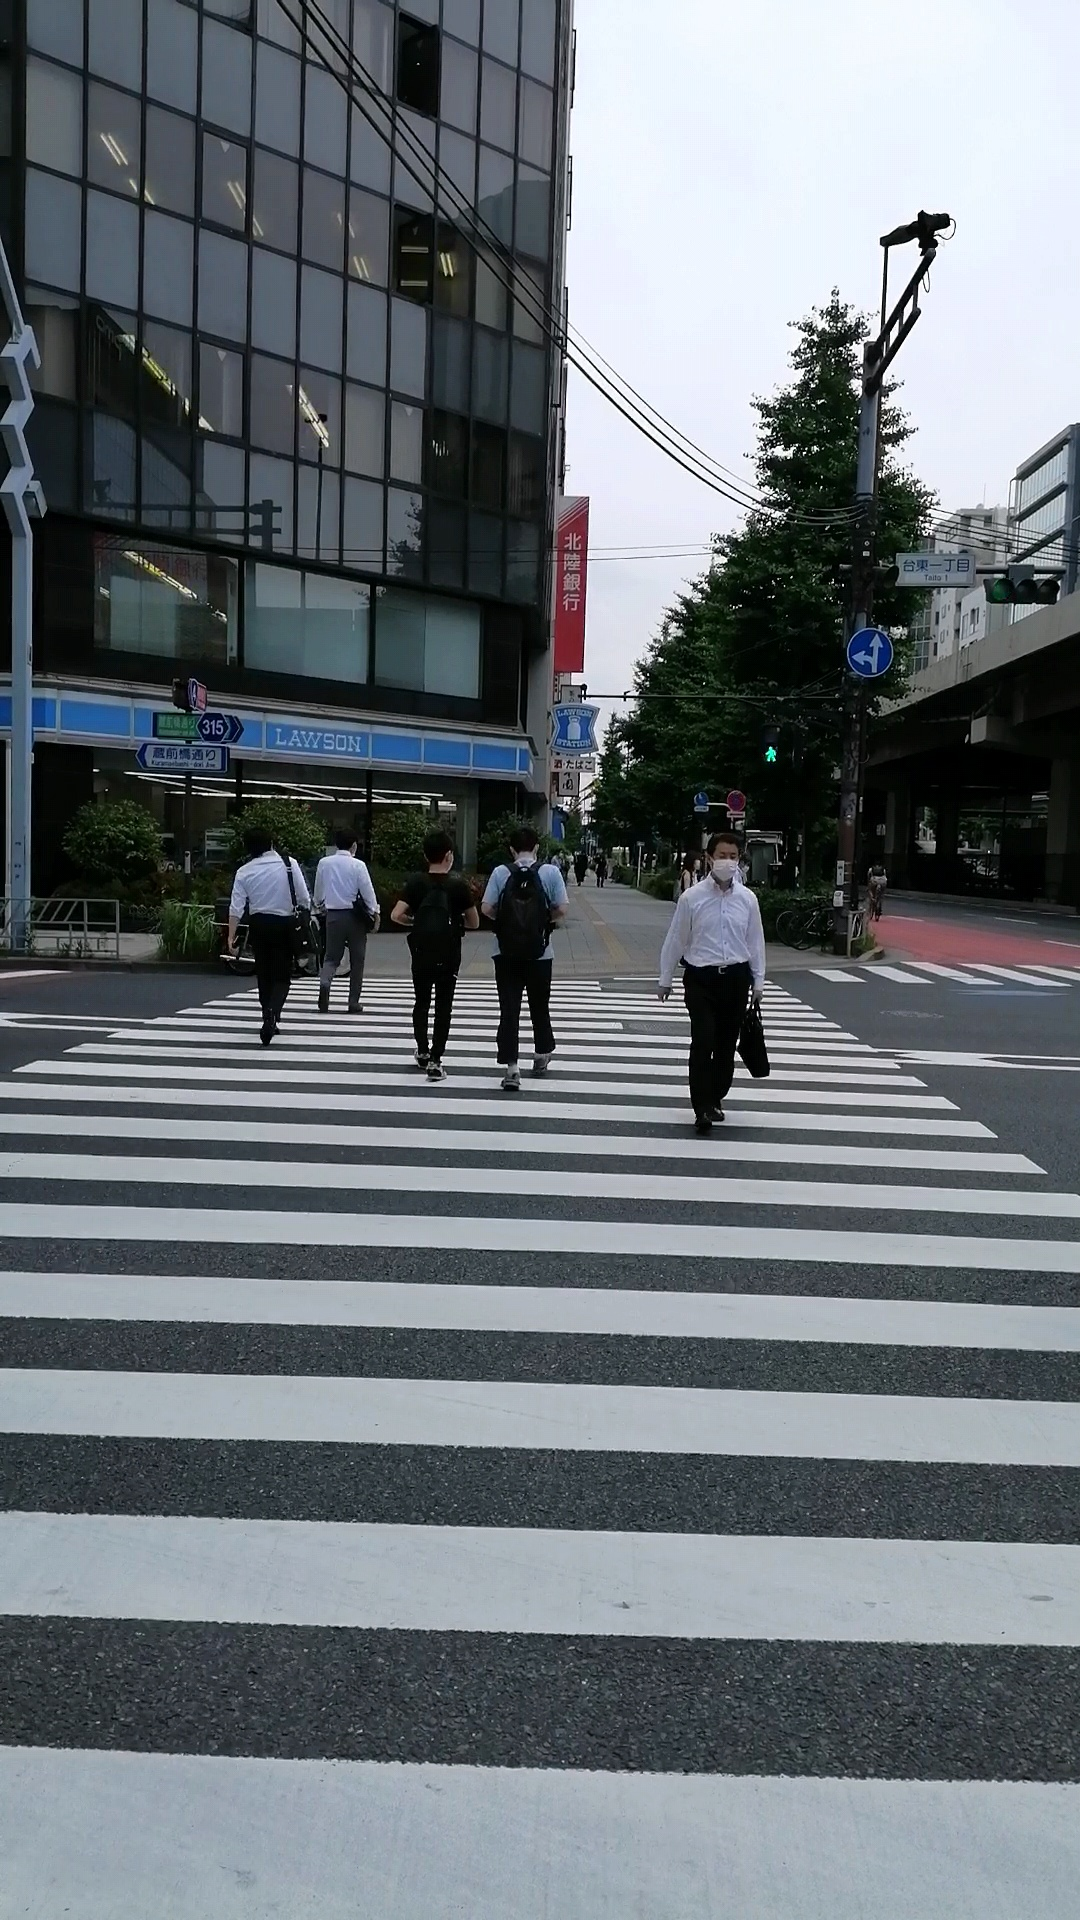green: (757, 723, 785, 770)
